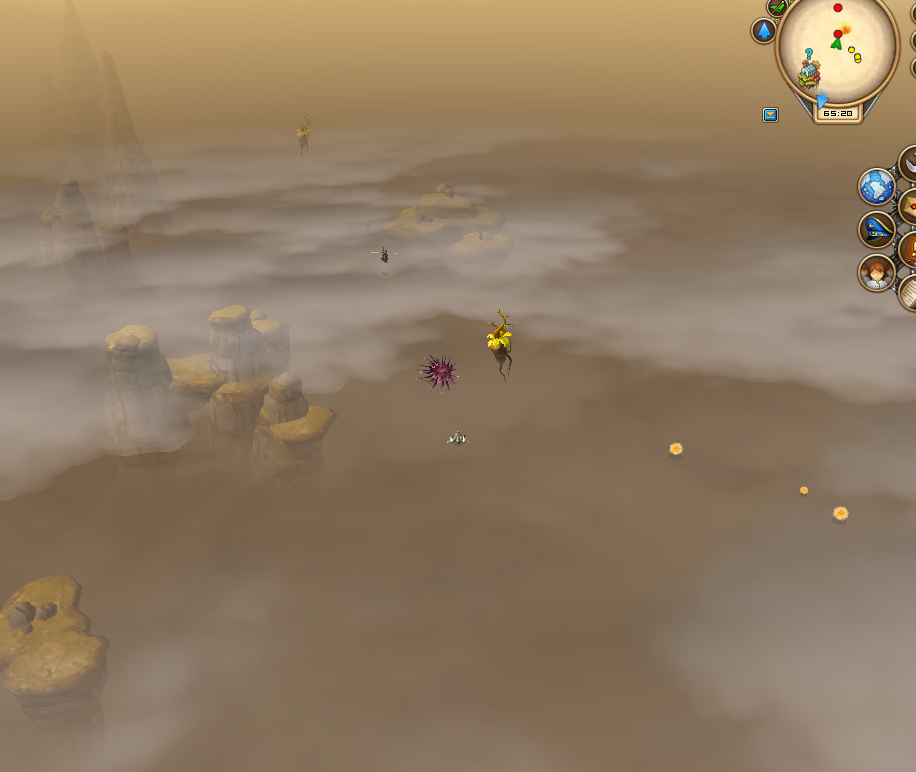dandelion-empty: (481, 303, 522, 379), (290, 111, 316, 153)
fluff: (827, 501, 852, 527), (665, 438, 688, 463), (792, 477, 814, 501)
